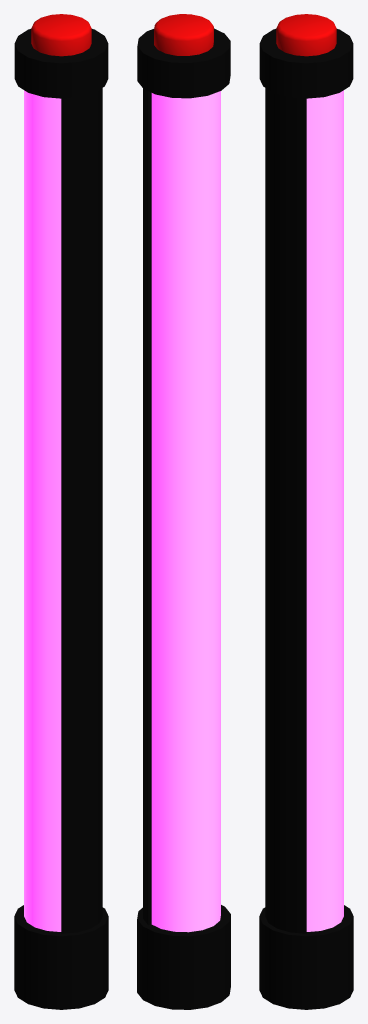
The model's file is Lamp.fbx.
The picture shows the model from 3 angles, left to right: view 1: azimuth 90°, elevation 25°; view 2: azimuth 210°, elevation 25°; view 3: azimuth 270°, elevation 25°; orthographic projection.
Visible parts, largest first — view 1: Lamp, Button; view 2: Lamp, Button; view 3: Lamp, Button.
Boxes of the visible parts, box(x1,y1,x2,y2) form: Lamp: box(14, 29, 108, 1009); Button: box(31, 14, 91, 56); Lamp: box(137, 28, 230, 1009); Button: box(154, 14, 213, 55); Lamp: box(259, 29, 353, 1009); Button: box(276, 14, 336, 56).
Bounding box in the file's own units: 37.6 × 424 × 37.6.
